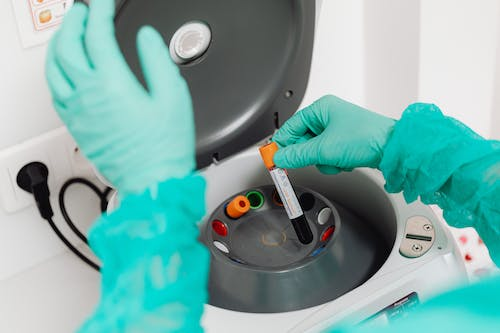blood: (268, 164, 314, 245)
